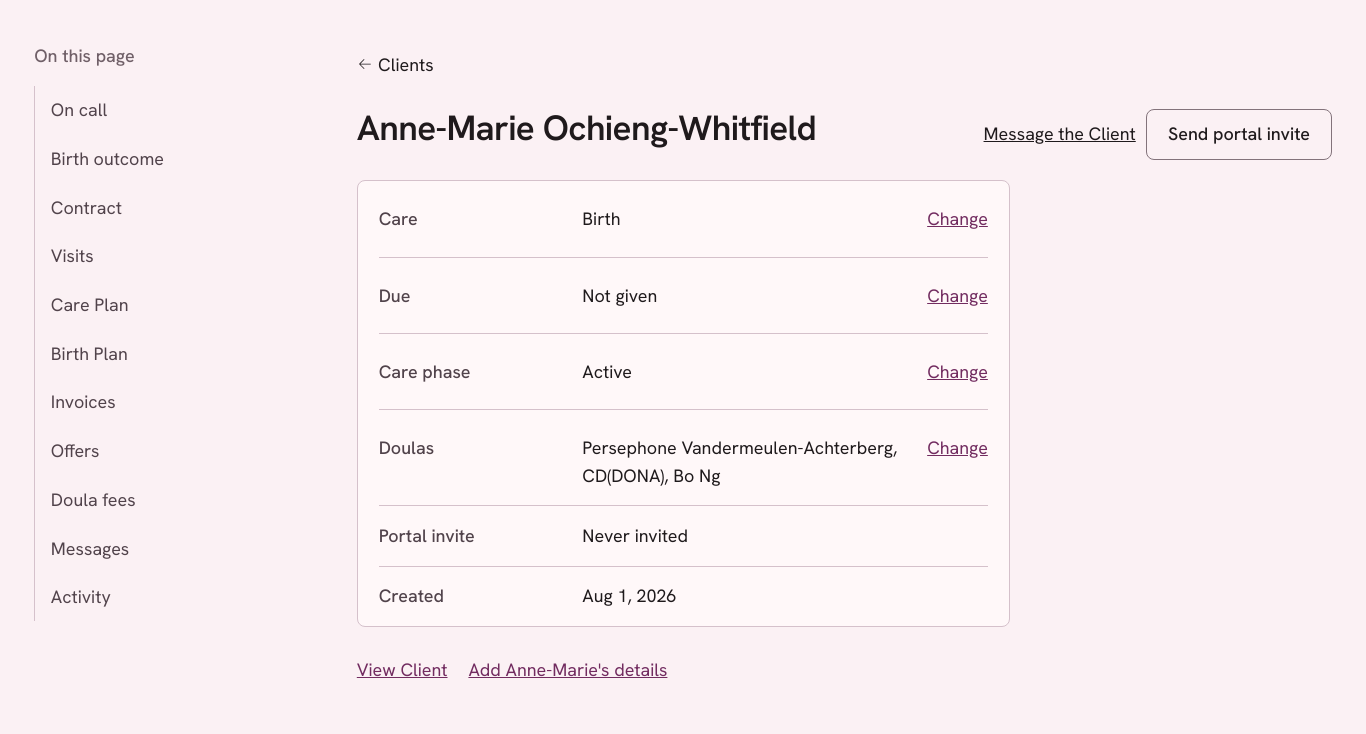
it: a birth Engagement with no due date (#2118) › saves a first date and shows it on the card
This screenshot has width=1366, height=734.
Click the button "Change" in the row of "Not given" at x=958, y=295, box [927,273,988,317]
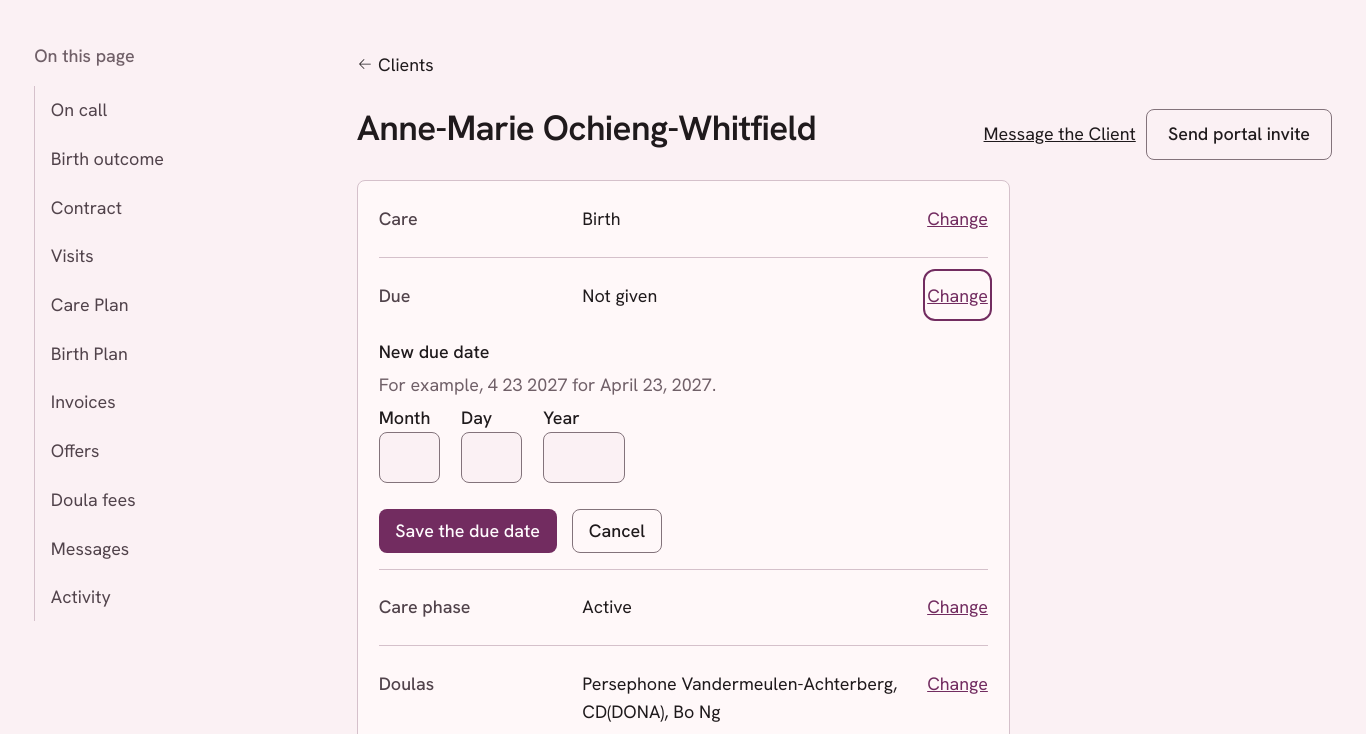
Type "3" into the field labelled "Month" at x=409, y=458, box [379,432,440,483]
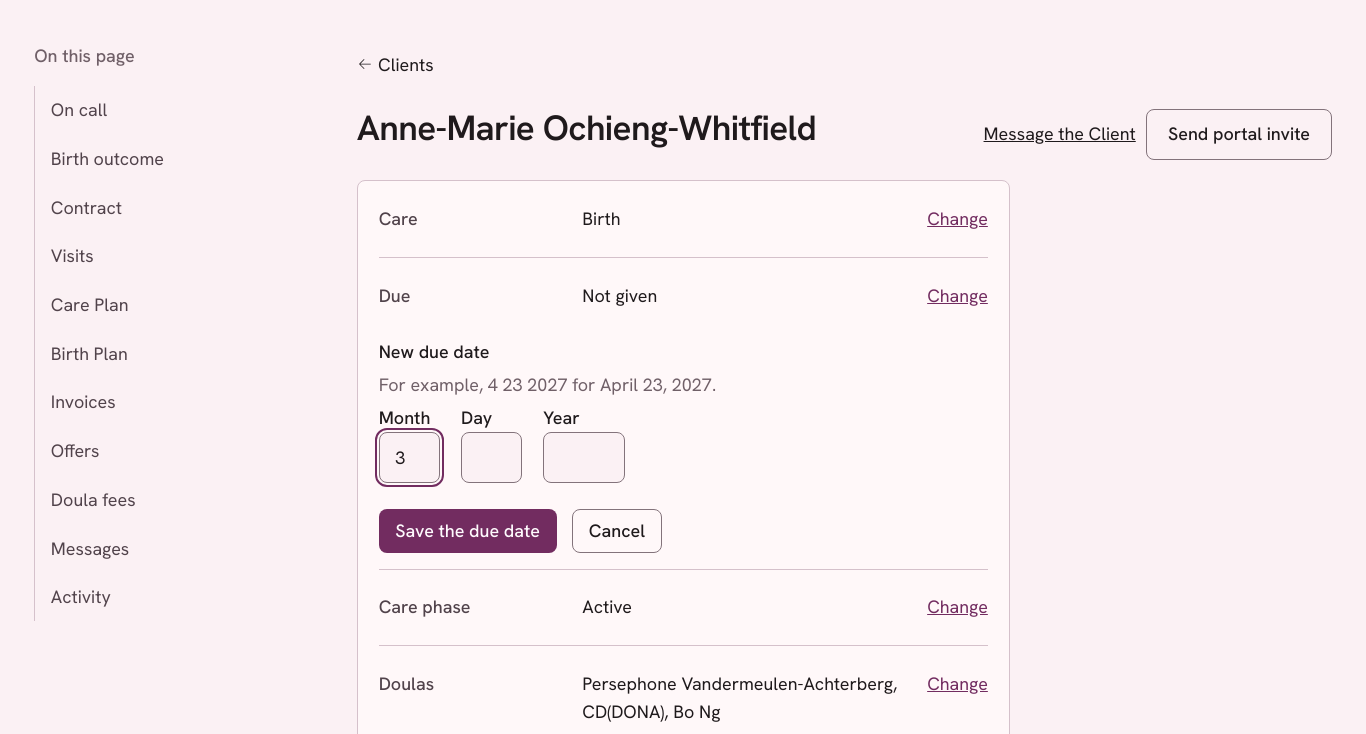
Type "15" into the field labelled "Day" at x=492, y=458, box [461,432,522,483]
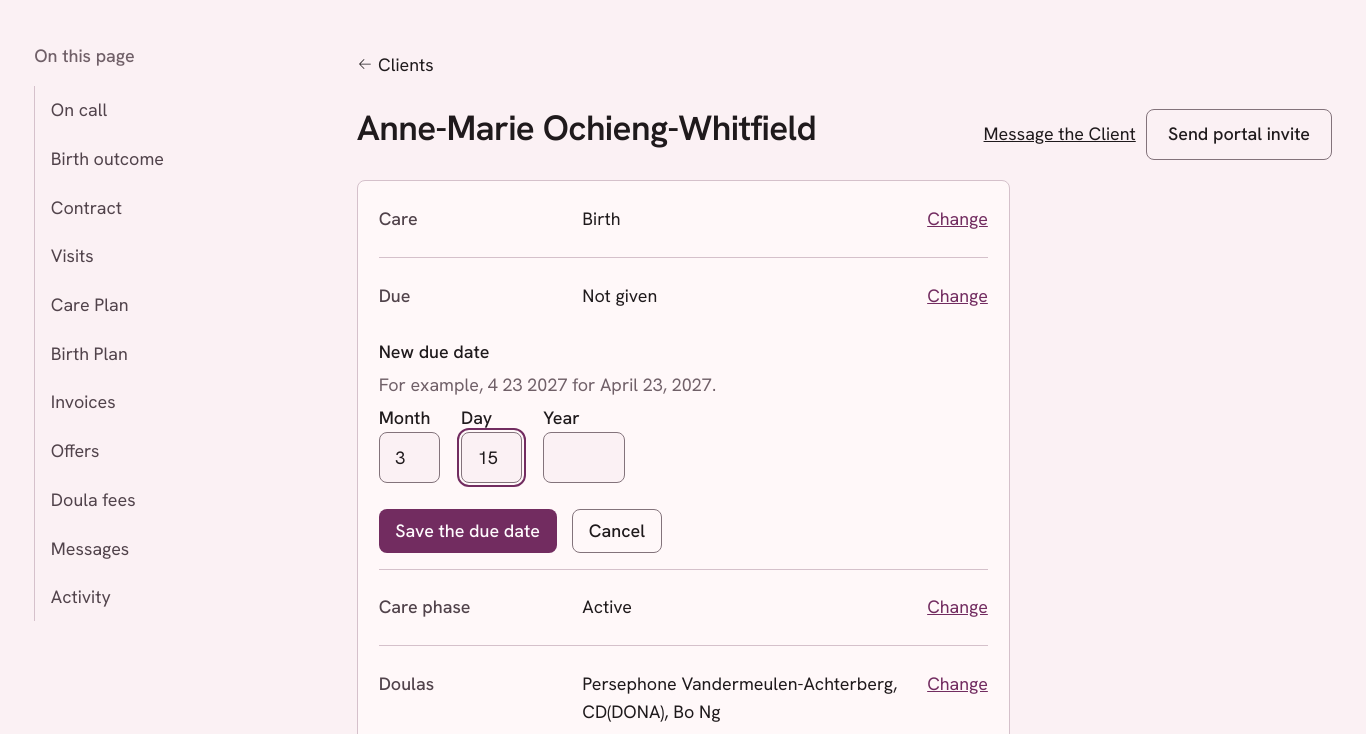
Type "2027" into the field labelled "Year" at x=584, y=458, box [543,432,625,483]
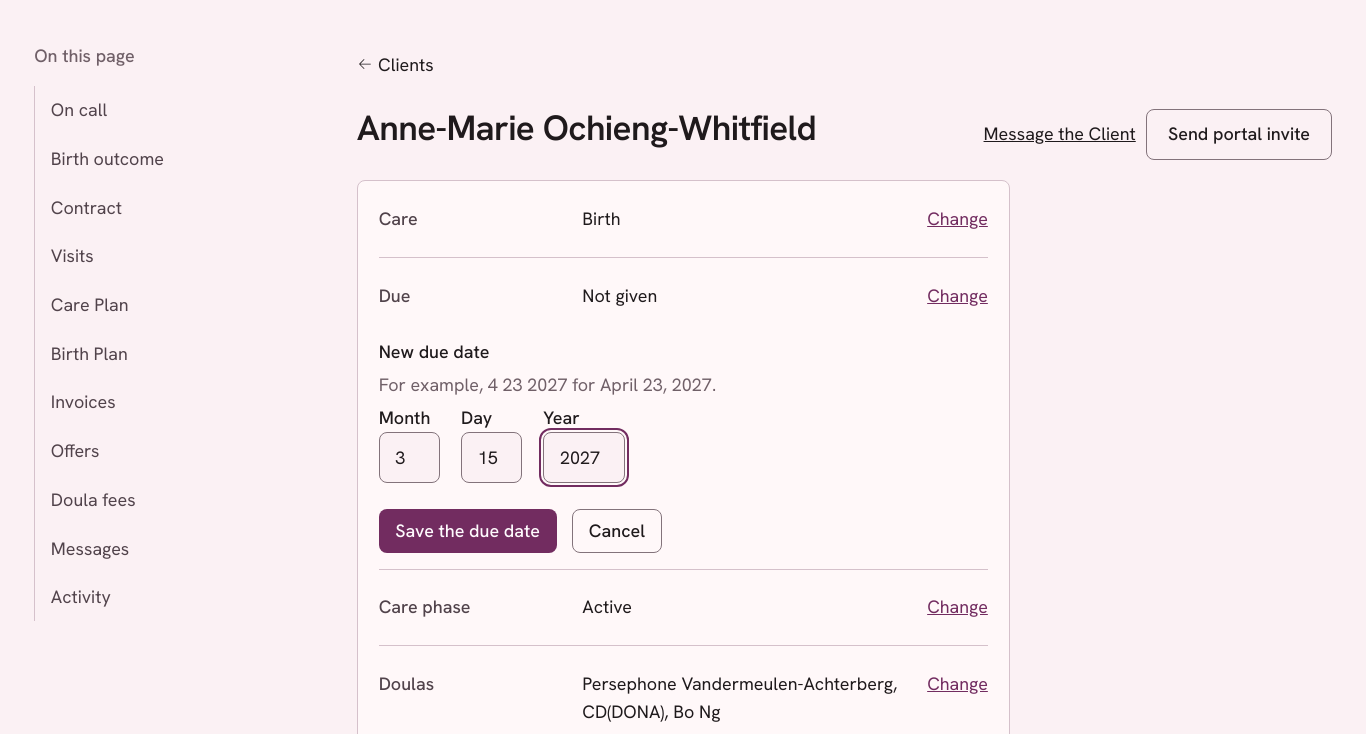
Click the button "Save the due date" at x=468, y=531, box [379,509,556,553]
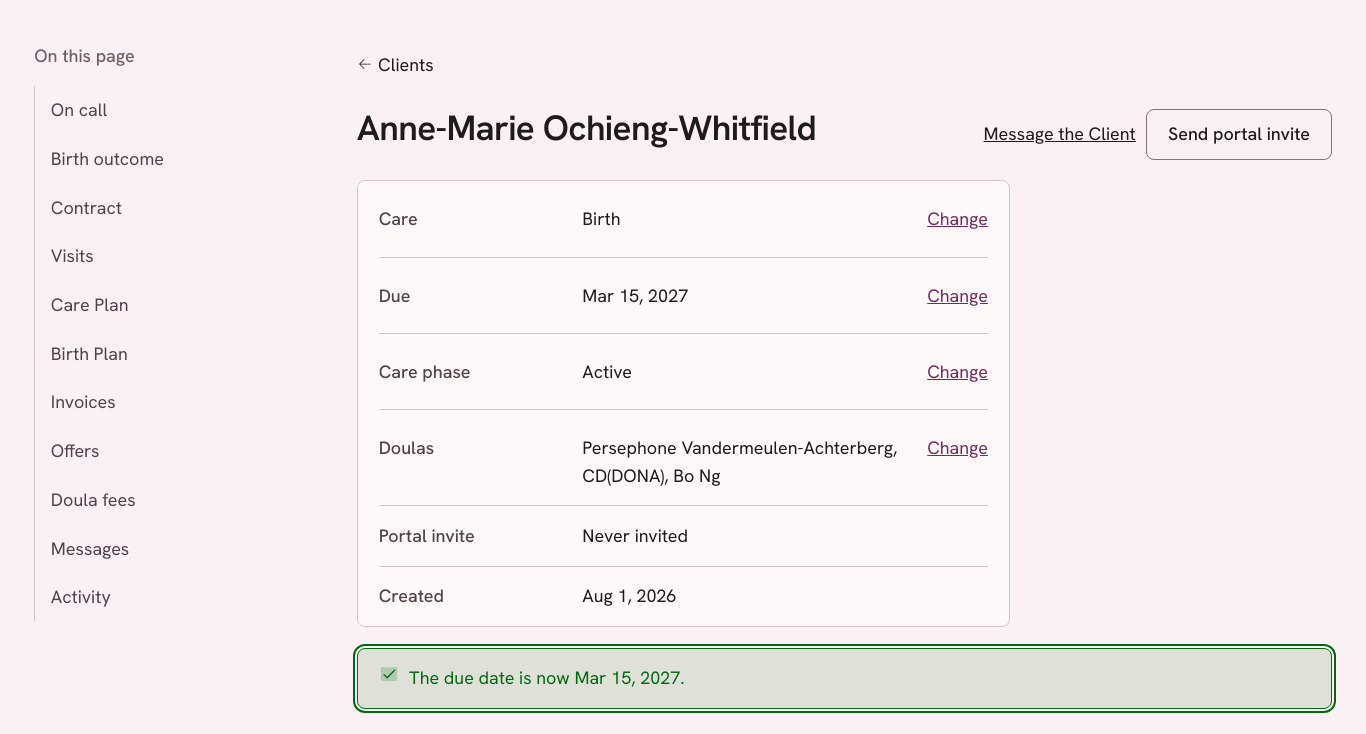
Now the text "Mar 15, 2027" is shown, box [582,284,688,306]
